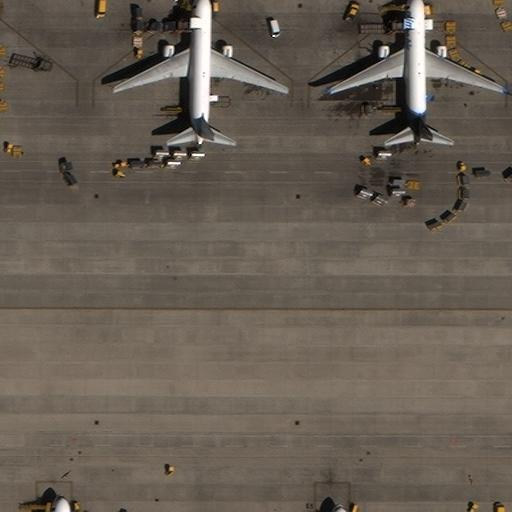Large Civil Transport: (327, 0, 506, 147), (112, 0, 287, 146)
